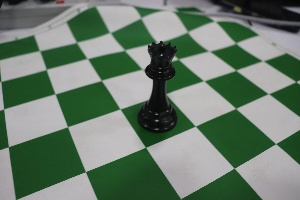black_queen: (136, 32, 179, 135)
